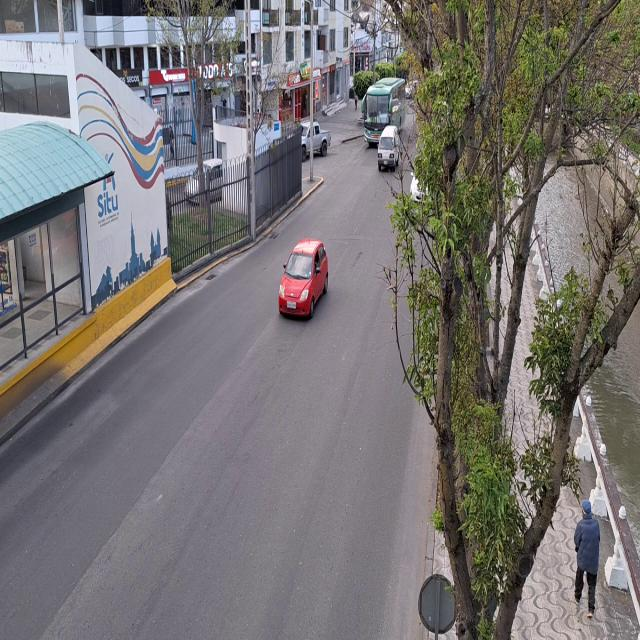BUS: (362, 84, 396, 148)
SED: (277, 237, 329, 318)
